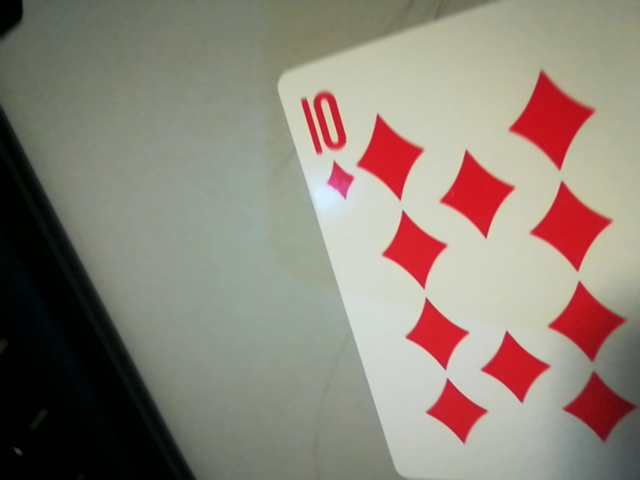fk 10: (294, 81, 358, 207)
